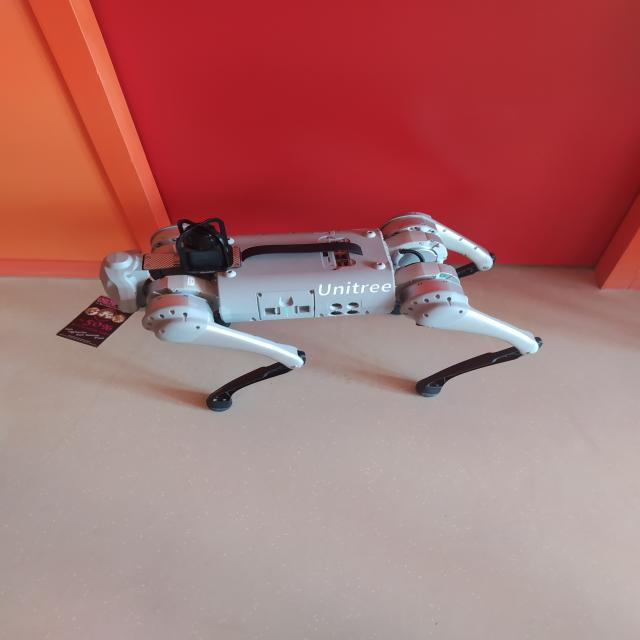unitree-go1-robot: (95, 206, 558, 422)
